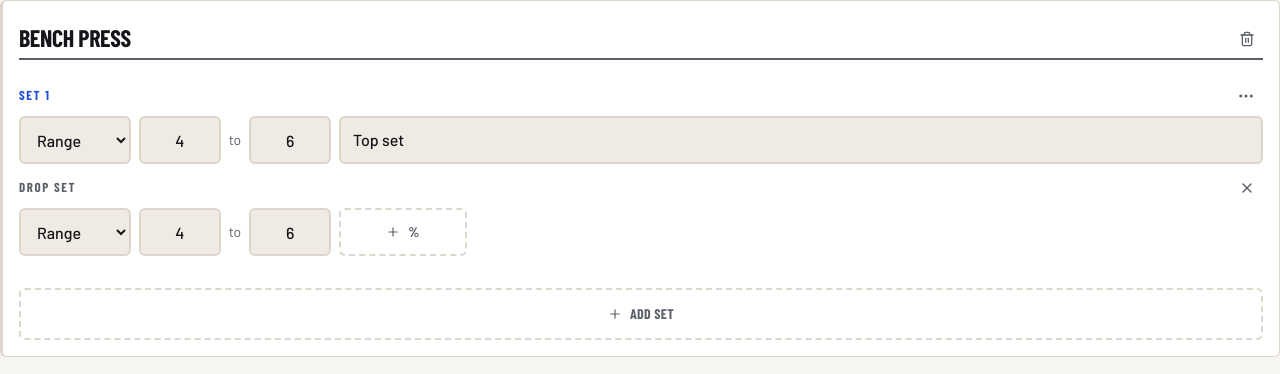
Test: ExerciseFields › drop and rest-pause sets › will not empty the exercise by taking a run out with its set
This screenshot has width=1280, height=374.
Click the button named "Exercise 1, set 1 actions". click: [1246, 96]
box: [1229,79,1263,113]
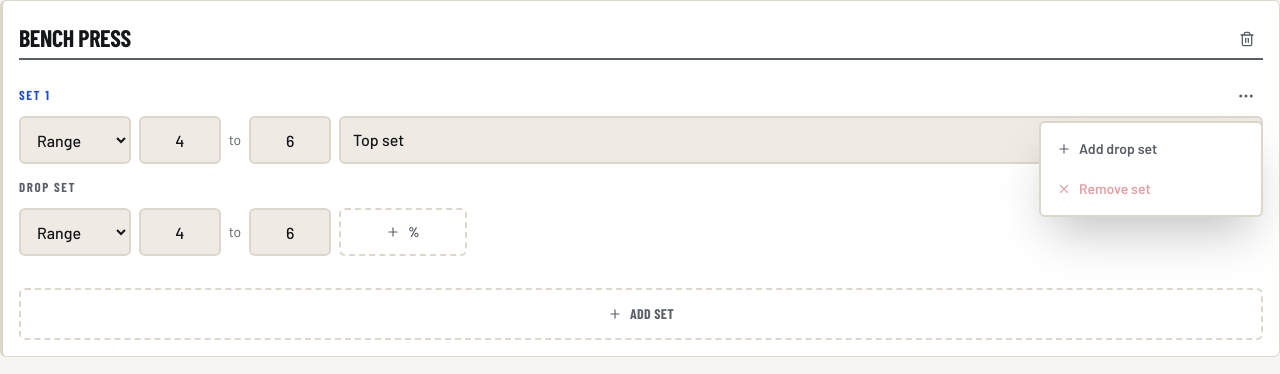
Expected: the button with aria-label "Exercise 1, remove set 1" is disabled, [1049,171,1253,207]
